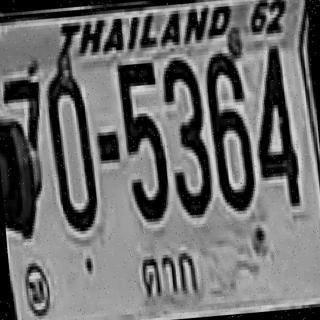N00: (43, 67, 97, 231)
N03: (159, 55, 212, 217)
N04: (248, 42, 300, 205)
N05: (115, 59, 169, 220)
N06: (202, 50, 254, 211)
P69: (133, 245, 204, 302)
